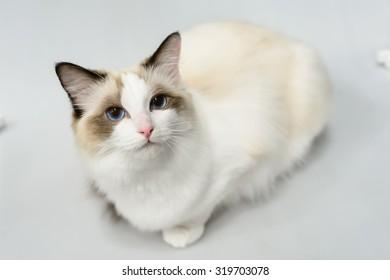ragdoll: (51, 30, 205, 183)
